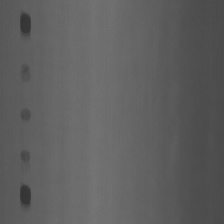oil_spot: (18, 179, 35, 212), (16, 8, 34, 38), (18, 57, 33, 85), (18, 144, 35, 166), (18, 105, 33, 124)
